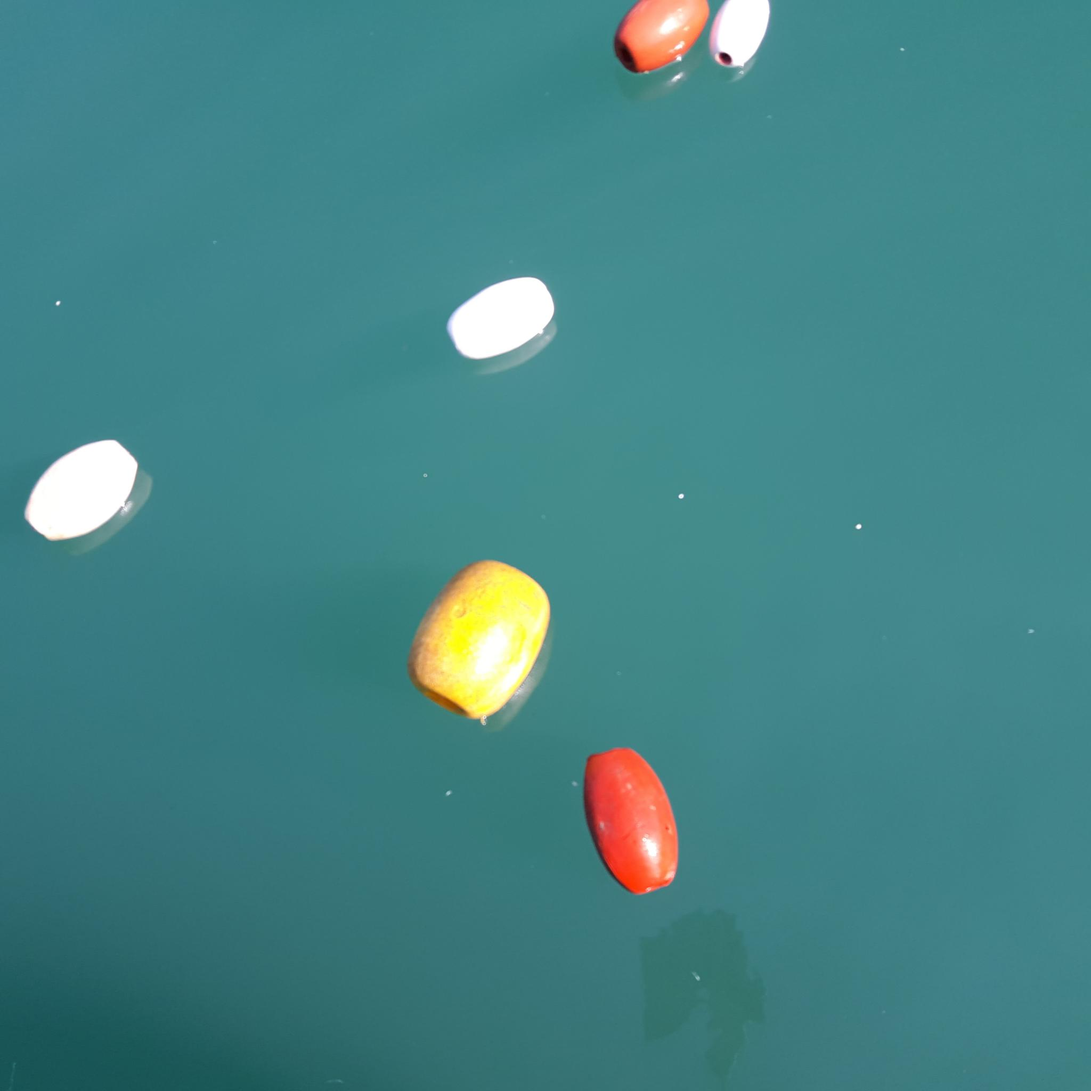sampah_terapung: (407, 560, 551, 726), (584, 748, 679, 896), (24, 440, 139, 542), (446, 277, 555, 360), (614, 1, 710, 74), (709, 1, 771, 69)
